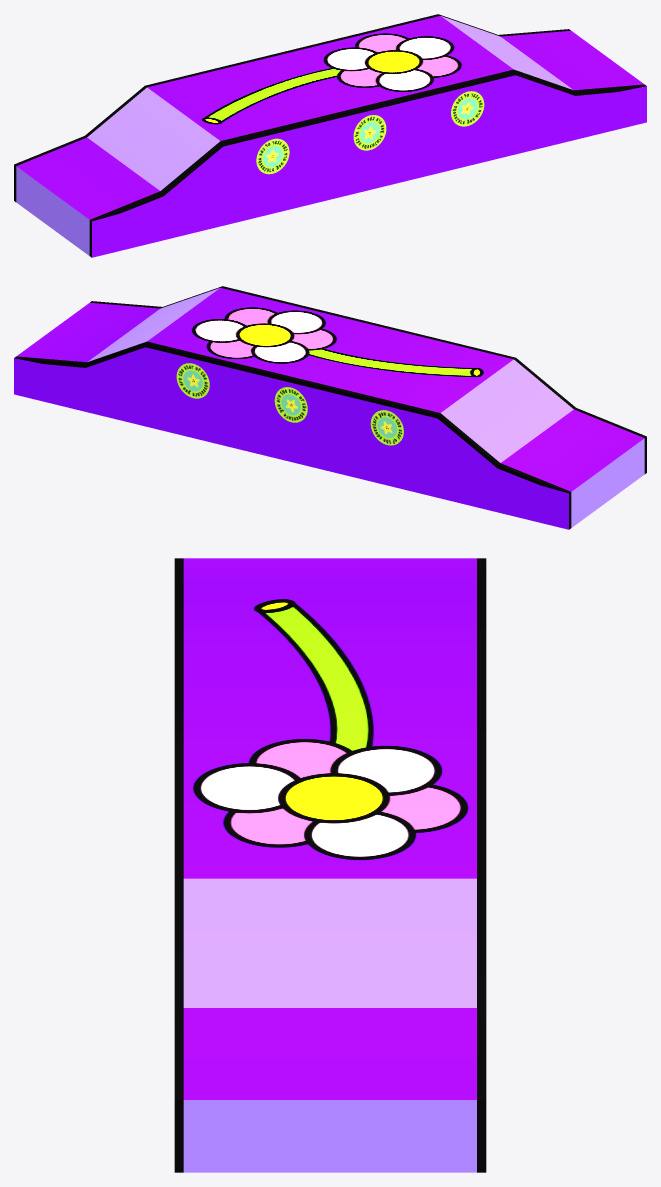
Rendered from cocobay_stepslope.gltf.
3 views of the same model, one above another, from view 1: azimuth 30°, elevation 25°; view 2: azimuth 150°, elevation 25°; view 3: azimuth 270°, elevation 25° (orthographic). The views are drawn at different scales.
Parts seen in each view (by area): view 1: cocobay_stepslope_glb; view 2: cocobay_stepslope_glb; view 3: cocobay_stepslope_glb.
Part boxes in pixels (x1=…): cocobay_stepslope_glb: x1=14, y1=14, x2=646, y2=257; cocobay_stepslope_glb: x1=14, y1=286, x2=646, y2=529; cocobay_stepslope_glb: x1=174, y1=558, x2=486, y2=1172.
Size of what is drawn, in the model's own units: 4 by 0.5727 by 0.9795.
Materials: 3 (3 with a texture image).
